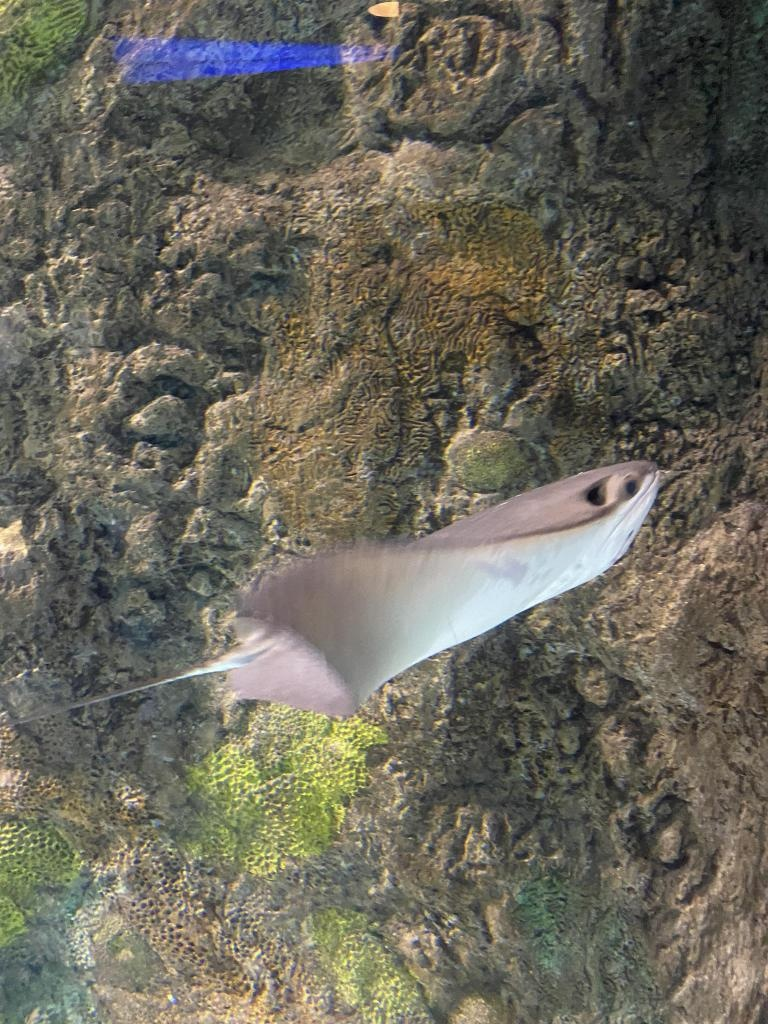stingray: (223, 455, 667, 721)
